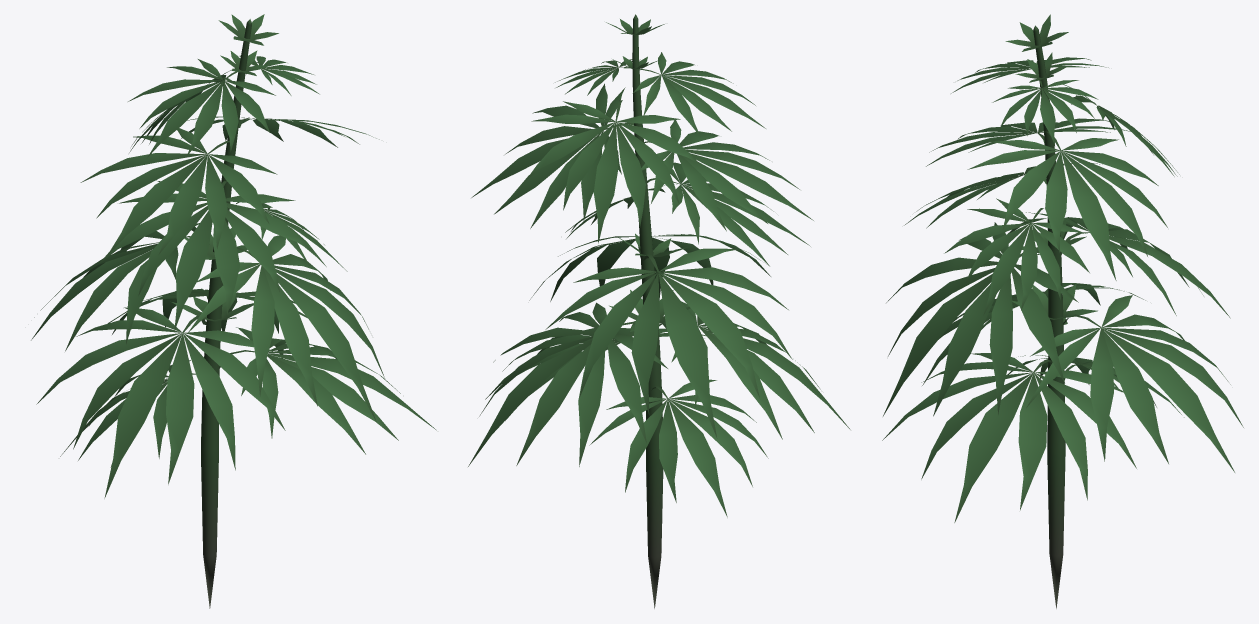
File: plants-leafy-plants-cannabis_v1.fbx
3 renders of one model, left to right at view 1: azimuth 30°, elevation 25°; view 2: azimuth 150°, elevation 25°; view 3: azimuth 270°, elevation 25°, orthographic. The views are drawn at different scales.
Parts seen in each view (by area): view 1: Cannabis_v1; view 2: Cannabis_v1; view 3: Cannabis_v1.
Boxes of the visible parts, box(x1,y1,x2,y2) form: Cannabis_v1: box(31, 14, 436, 608); Cannabis_v1: box(468, 14, 850, 608); Cannabis_v1: box(882, 14, 1243, 608).
Bounding box in the file's own units: 0.8808 × 1.5 × 0.824.
